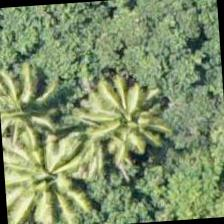Kelapa_Sawit: (80, 73, 176, 169), (2, 135, 95, 223), (0, 66, 69, 161)
